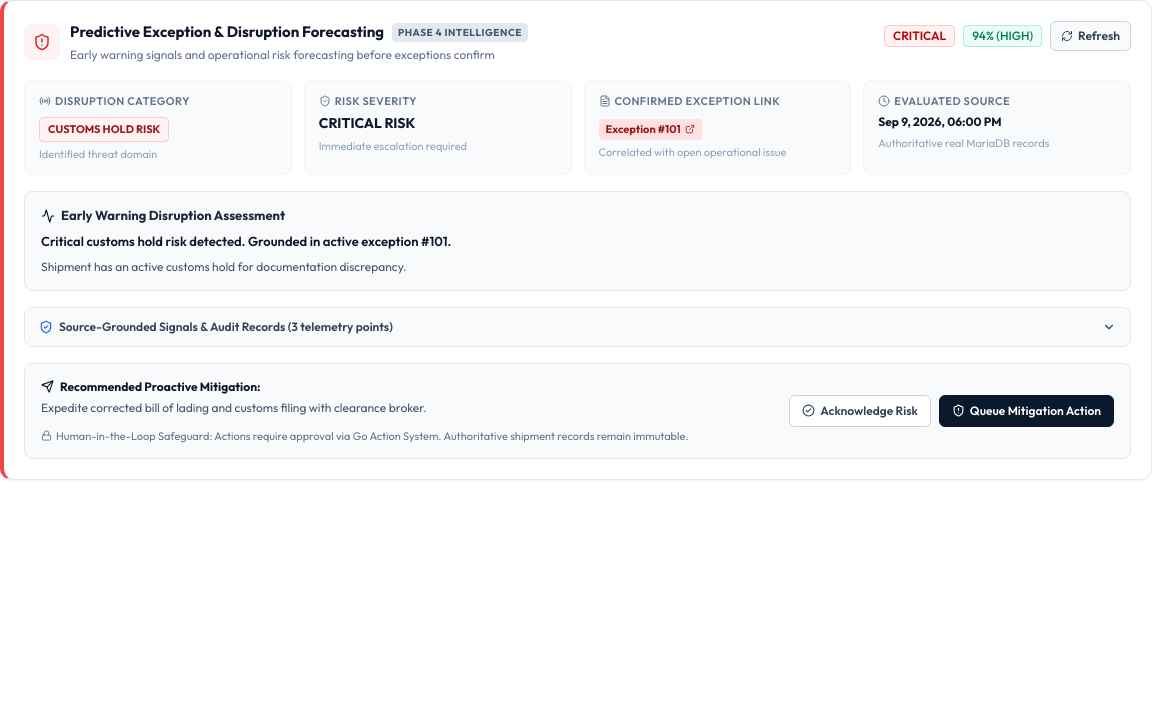
ShipmentDisruptionForecastCard › handles queue operational action via Action System with HITL notice
The width and height of the screenshot is (1152, 720).
Click the button "Queue Mitigation Action": (1026, 411) [939,395,1114,427]
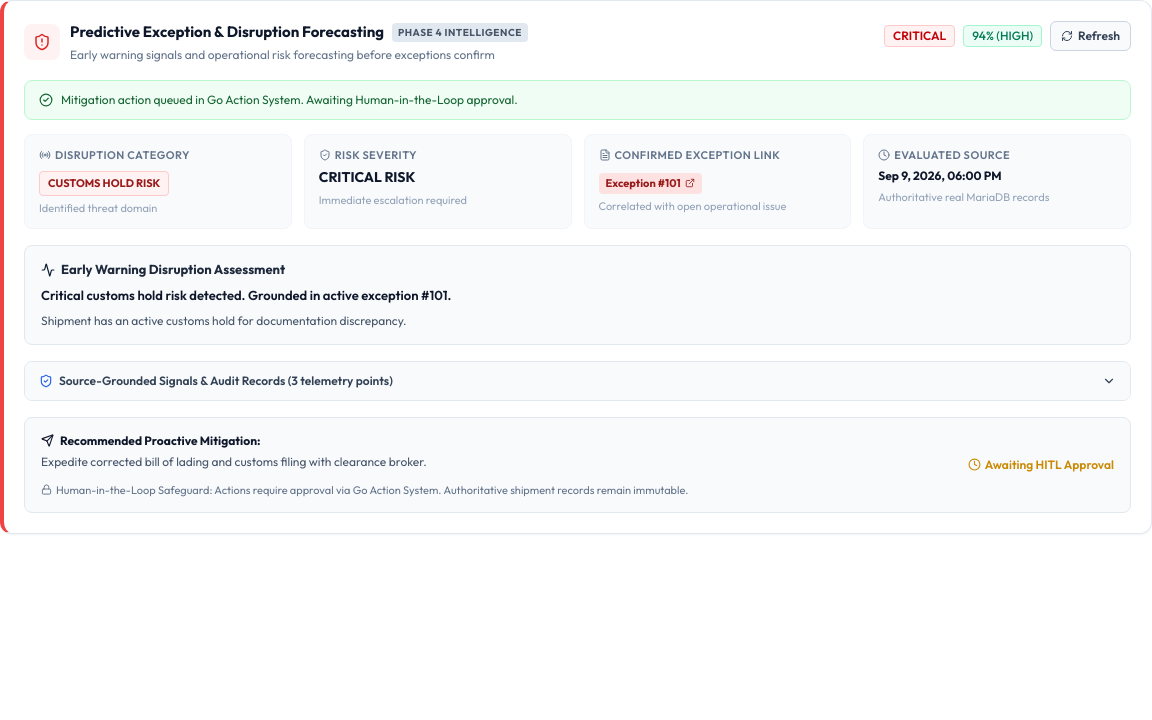
Now the text "Mitigation action queued in Go Action System" is shown, box [61,92,518,106]
